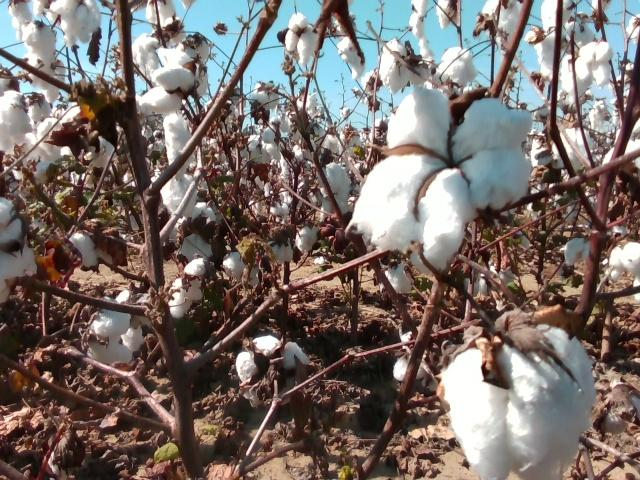cotton_ready: (353, 83, 536, 262), (441, 322, 595, 480), (536, 0, 596, 100), (24, 107, 119, 170), (136, 36, 211, 115), (83, 289, 145, 368), (157, 112, 198, 220), (0, 199, 38, 305), (236, 334, 310, 383), (380, 251, 453, 299), (24, 21, 65, 101), (0, 89, 50, 153), (180, 233, 247, 280), (379, 37, 429, 92), (166, 254, 208, 319), (532, 129, 595, 171), (48, 0, 102, 45), (604, 238, 640, 301), (70, 227, 122, 269), (482, 0, 524, 48), (393, 329, 430, 380), (573, 40, 614, 86), (283, 13, 319, 65), (269, 227, 316, 265), (434, 48, 479, 87), (322, 162, 349, 216), (147, 0, 183, 38), (559, 238, 598, 264), (8, 0, 31, 42)
